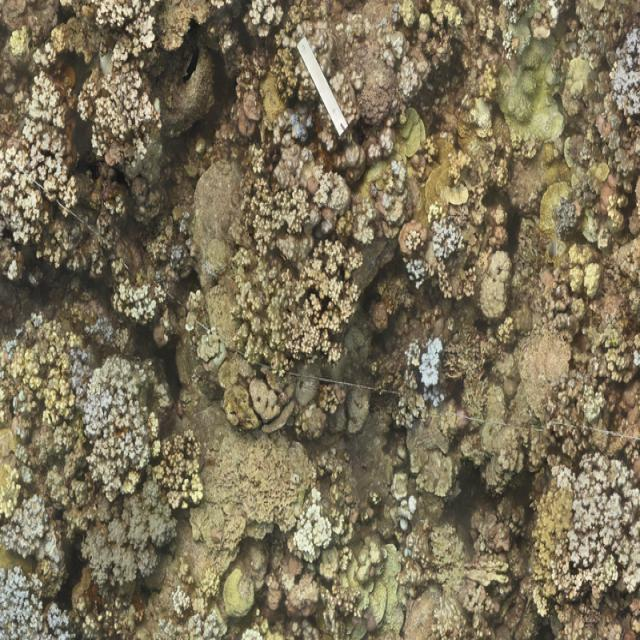Bleached Coral: (0, 69, 73, 246), (547, 462, 640, 592), (91, 357, 157, 470), (0, 557, 73, 640), (286, 484, 332, 576), (411, 330, 453, 428), (610, 27, 640, 140), (427, 217, 465, 266), (401, 256, 431, 287)
